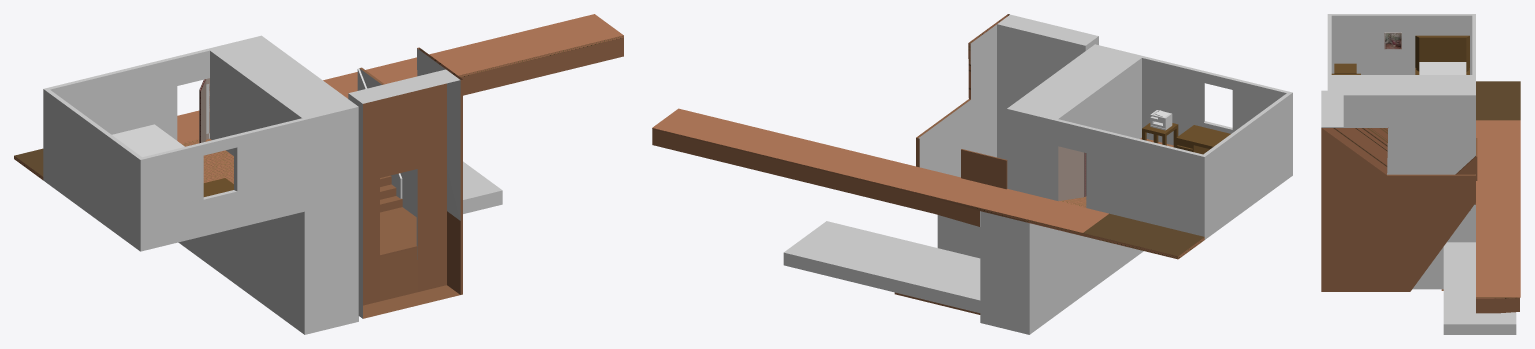
Rendered from house.glb.
3 views of the same model, side by side, from view 1: azimuth 30°, elevation 25°; view 2: azimuth 150°, elevation 25°; view 3: azimuth 270°, elevation 25° (orthographic). The views are drawn at different scales.
Visible parts, largest first — view 1: Room, Stairs, Bed; view 2: Room, Stairs, Desk, Table; view 3: Room, Stairs, Bed, Table.001.
Boxes of the visible parts, bbox=[...] form: Room: bbox=[14, 14, 623, 334]; Stairs: bbox=[348, 47, 462, 318]; Bed: bbox=[112, 124, 184, 156]; Room: bbox=[652, 44, 1292, 334]; Stairs: bbox=[894, 14, 1098, 314]; Desk: bbox=[1176, 125, 1230, 154]; Table: bbox=[1142, 123, 1178, 147]; Room: bbox=[1327, 14, 1520, 334]; Stairs: bbox=[1321, 90, 1477, 291]; Bed: bbox=[1415, 35, 1469, 74]; Table.001: bbox=[1334, 63, 1356, 73].
Size of the model in its own units: 34.48 by 12.54 by 13.43.
5 materials, 2 textured.
